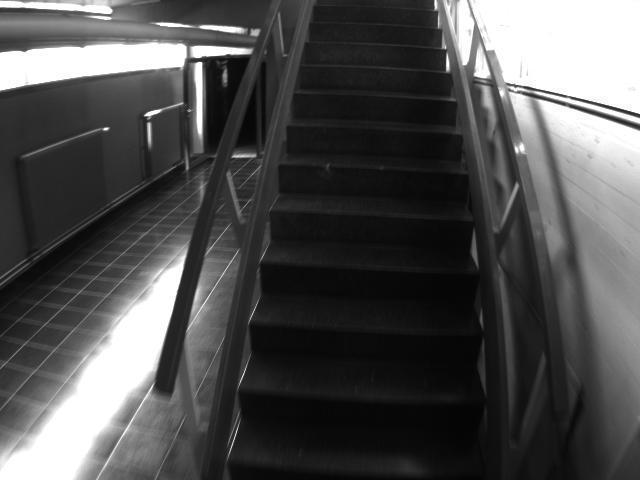Escaleras: (254, 7, 509, 479)
